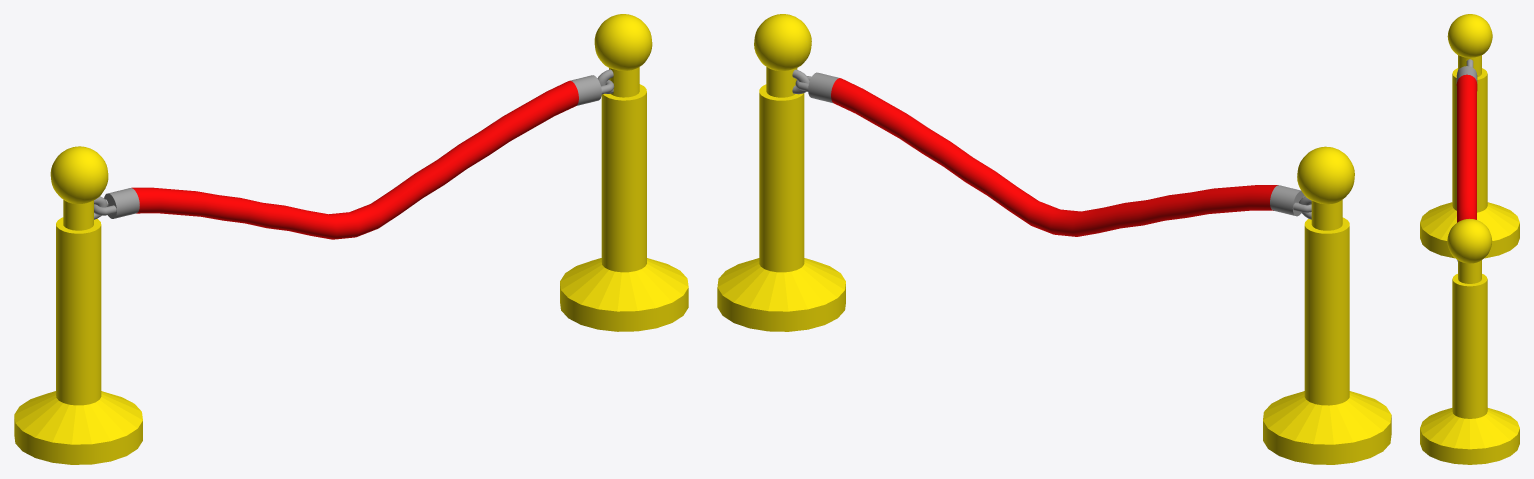
File: Velvet Rope.fbx
3 views of the same model, side by side, from view 1: azimuth 30°, elevation 25°; view 2: azimuth 150°, elevation 25°; view 3: azimuth 270°, elevation 25° (orthographic). The views are drawn at different scales.
Visible parts, largest first — view 1: Rope_Post_Left, Rope_Post_Right, Velvet_Rope; view 2: Rope_Post_Left, Rope_Post_Right, Velvet_Rope; view 3: Rope_Post_Right, Rope_Post_Left, Velvet_Rope.
Part boxes in pixels (x1,y1,x2,y2): Rope_Post_Left: [14, 146, 142, 464]; Rope_Post_Right: [560, 14, 688, 331]; Velvet_Rope: [94, 75, 614, 239]; Rope_Post_Left: [1263, 146, 1391, 464]; Rope_Post_Right: [717, 14, 845, 331]; Velvet_Rope: [795, 72, 1311, 236]; Rope_Post_Right: [1420, 218, 1519, 464]; Rope_Post_Left: [1420, 14, 1519, 258]; Velvet_Rope: [1456, 66, 1477, 261].
Size of the model in its own units: 11.73 by 4.91 by 2.
